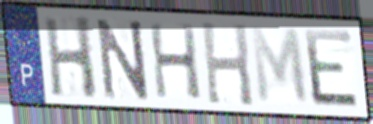E: (301, 26, 362, 111)
H: (42, 14, 101, 102), (199, 19, 256, 109), (146, 20, 204, 102)
M: (248, 24, 311, 108)
N: (94, 16, 152, 101)
